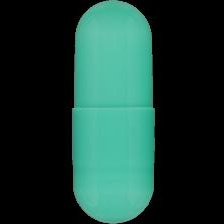0093-5112: (0, 0, 224, 224)
